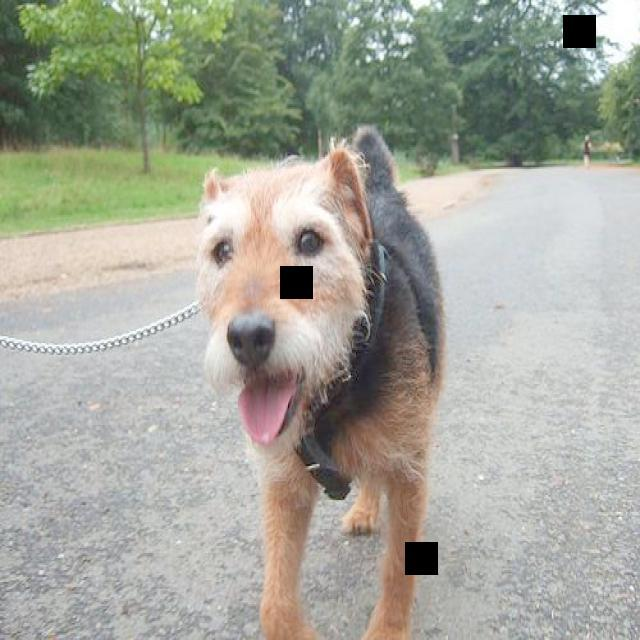adult_dog: (192, 118, 447, 640)
